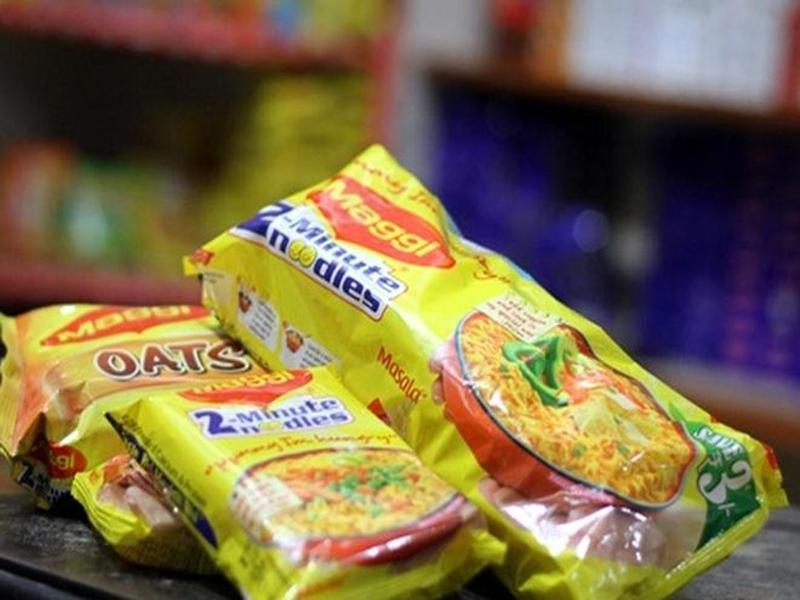maggi-family: (205, 132, 800, 551)
maggi-small: (132, 365, 481, 584)
